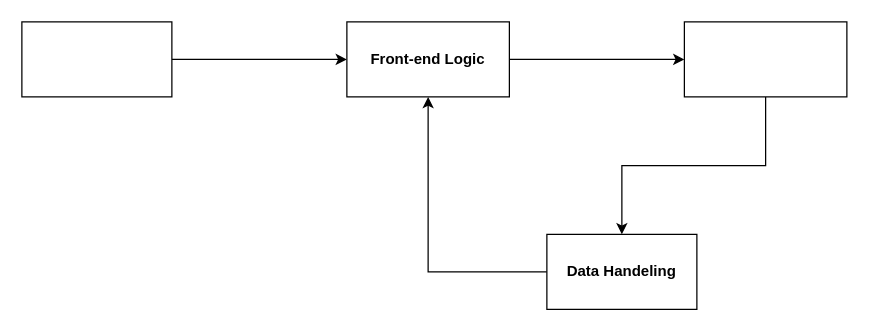
Image size: 869x331. Some labels were removed from this diagram. Each missing label, with the box of its shape:
Back-end Logic: (683, 21, 847, 97)
User Interface Tkinter GUI: (21, 21, 172, 97)
